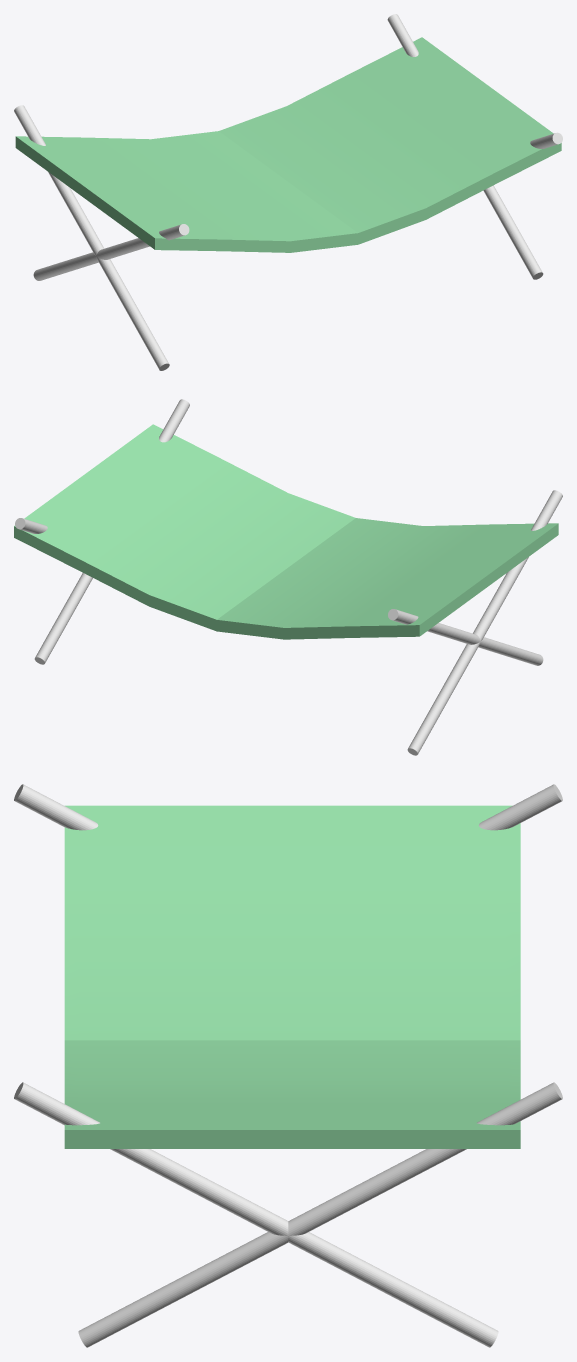
The model's file is Nurse.fbx.
3 renders of one model, top to bottom at view 1: azimuth 30°, elevation 25°; view 2: azimuth 150°, elevation 25°; view 3: azimuth 270°, elevation 25°, orthographic. The views are drawn at different scales.
Visible parts, largest first — view 1: Nurse; view 2: Nurse; view 3: Nurse.
Part boxes in pixels (<box>): Nurse: <box>14,14,562,370</box>; Nurse: <box>14,399,562,755</box>; Nurse: <box>14,784,562,1347</box>.
Size of the model in its own units: 240 by 90.8 by 171.
